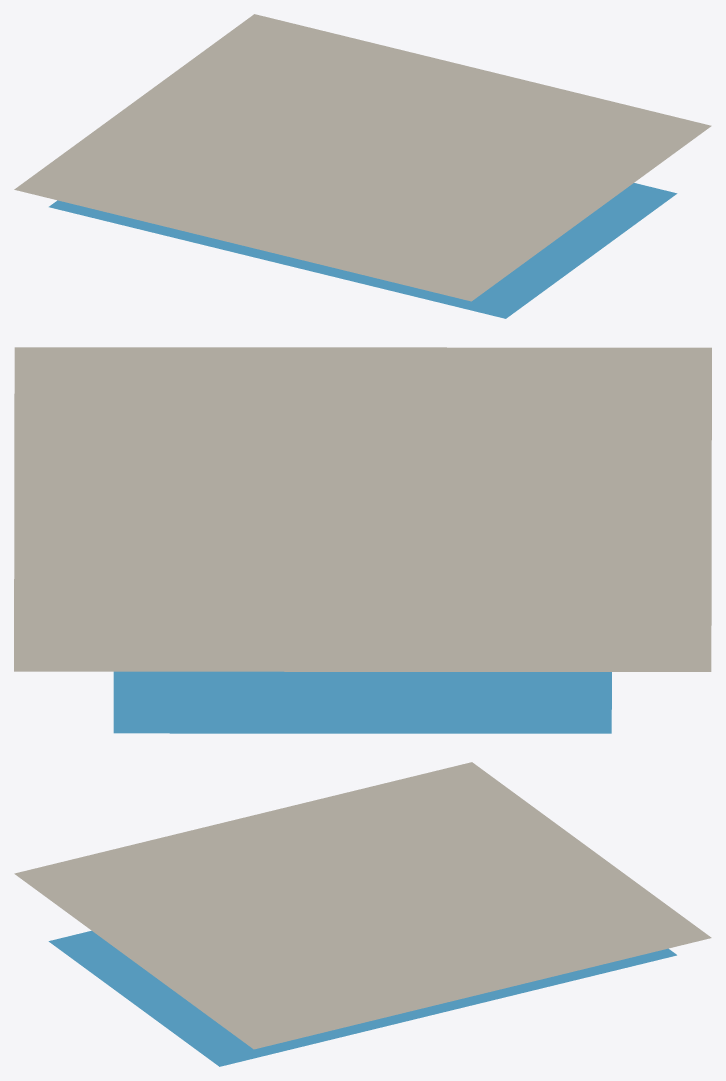
3 views of the same model, one above another, from view 1: azimuth 30°, elevation 25°; view 2: azimuth 150°, elevation 25°; view 3: azimuth 270°, elevation 25° (orthographic). The views are drawn at different scales.
Parts seen in each view (by area): view 1: estructura_terreno, estructura_agua; view 2: estructura_terreno, estructura_agua; view 3: estructura_terreno, estructura_agua.
Part boxes in pixels (x1,y1,x2,y2): estructura_terreno: (14,14,711,301); estructura_agua: (49,183,677,318); estructura_terreno: (14,347,711,671); estructura_agua: (113,671,611,733); estructura_terreno: (14,762,711,1049); estructura_agua: (48,930,676,1066).
Size of the model in its own units: 5.95 by 0.41 by 6.1.
